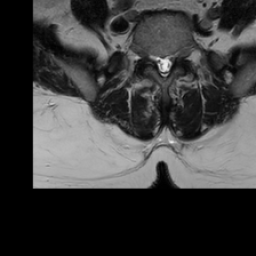CCS_normal: (159, 49, 166, 83)
LFS_normal: (174, 42, 183, 66)
LLS_normal: (166, 45, 174, 73)
RFS_normal: (144, 42, 152, 68)
RLS_normal: (152, 46, 159, 73)
